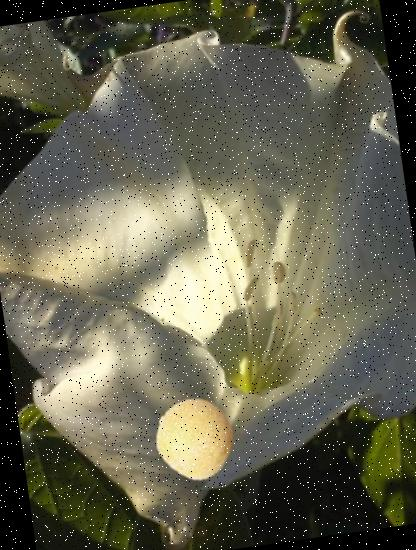Cantaloupe: (150, 394, 240, 483)
